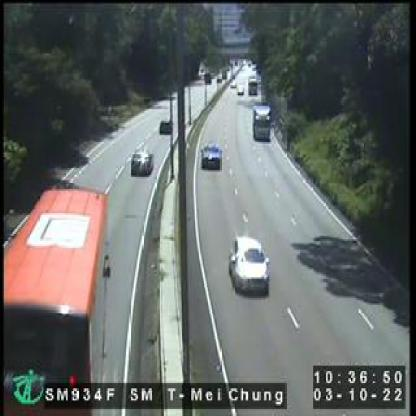Bus: (0, 191, 107, 414)
Car: (229, 236, 268, 291), (130, 148, 152, 174), (203, 144, 221, 166), (160, 118, 170, 128), (236, 85, 244, 95)
Truck: (254, 106, 272, 138), (248, 76, 258, 96)
